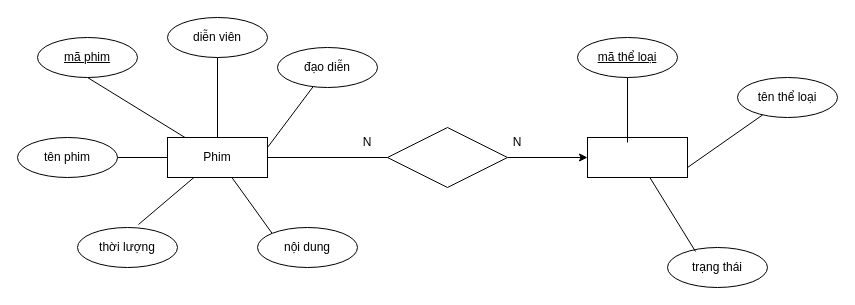
This 855x305 diagram has some shape labels left out. The box of each missing label's shape, as (x1, y1, x2, y2) in pixels:
Có: (386, 126, 508, 188)
Thể loại: (586, 136, 688, 178)
